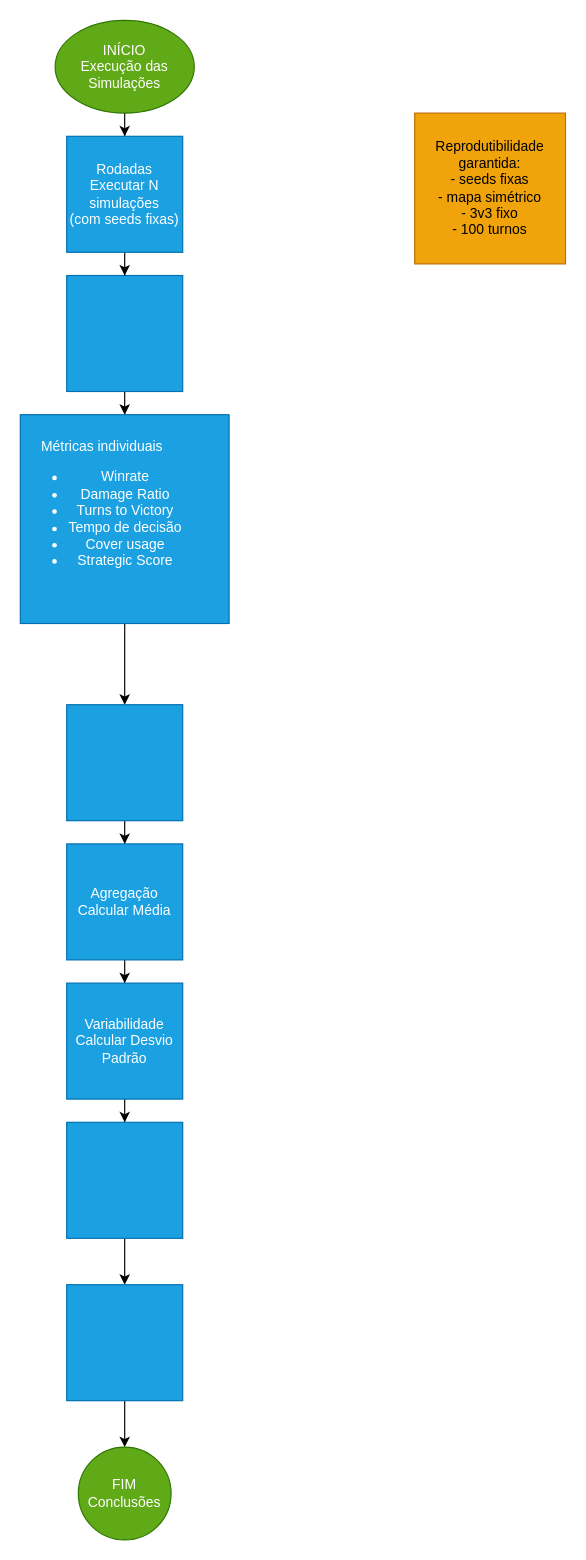
The diagram is 586 pixels wide and 1560 high, and some of its shapes have lost their labels. Each missing label, with the centre of its shape:
"Análise Analisar desempenho dos modelos" belongs at (124,1179).
"Armazenamento Armazenar resultados (dataset)" belongs at (124,762).
"Coleta por simulação Coletar métricas por partida" belongs at (124,333).
"Comparação Comparar IAs" belongs at (124,1342).
